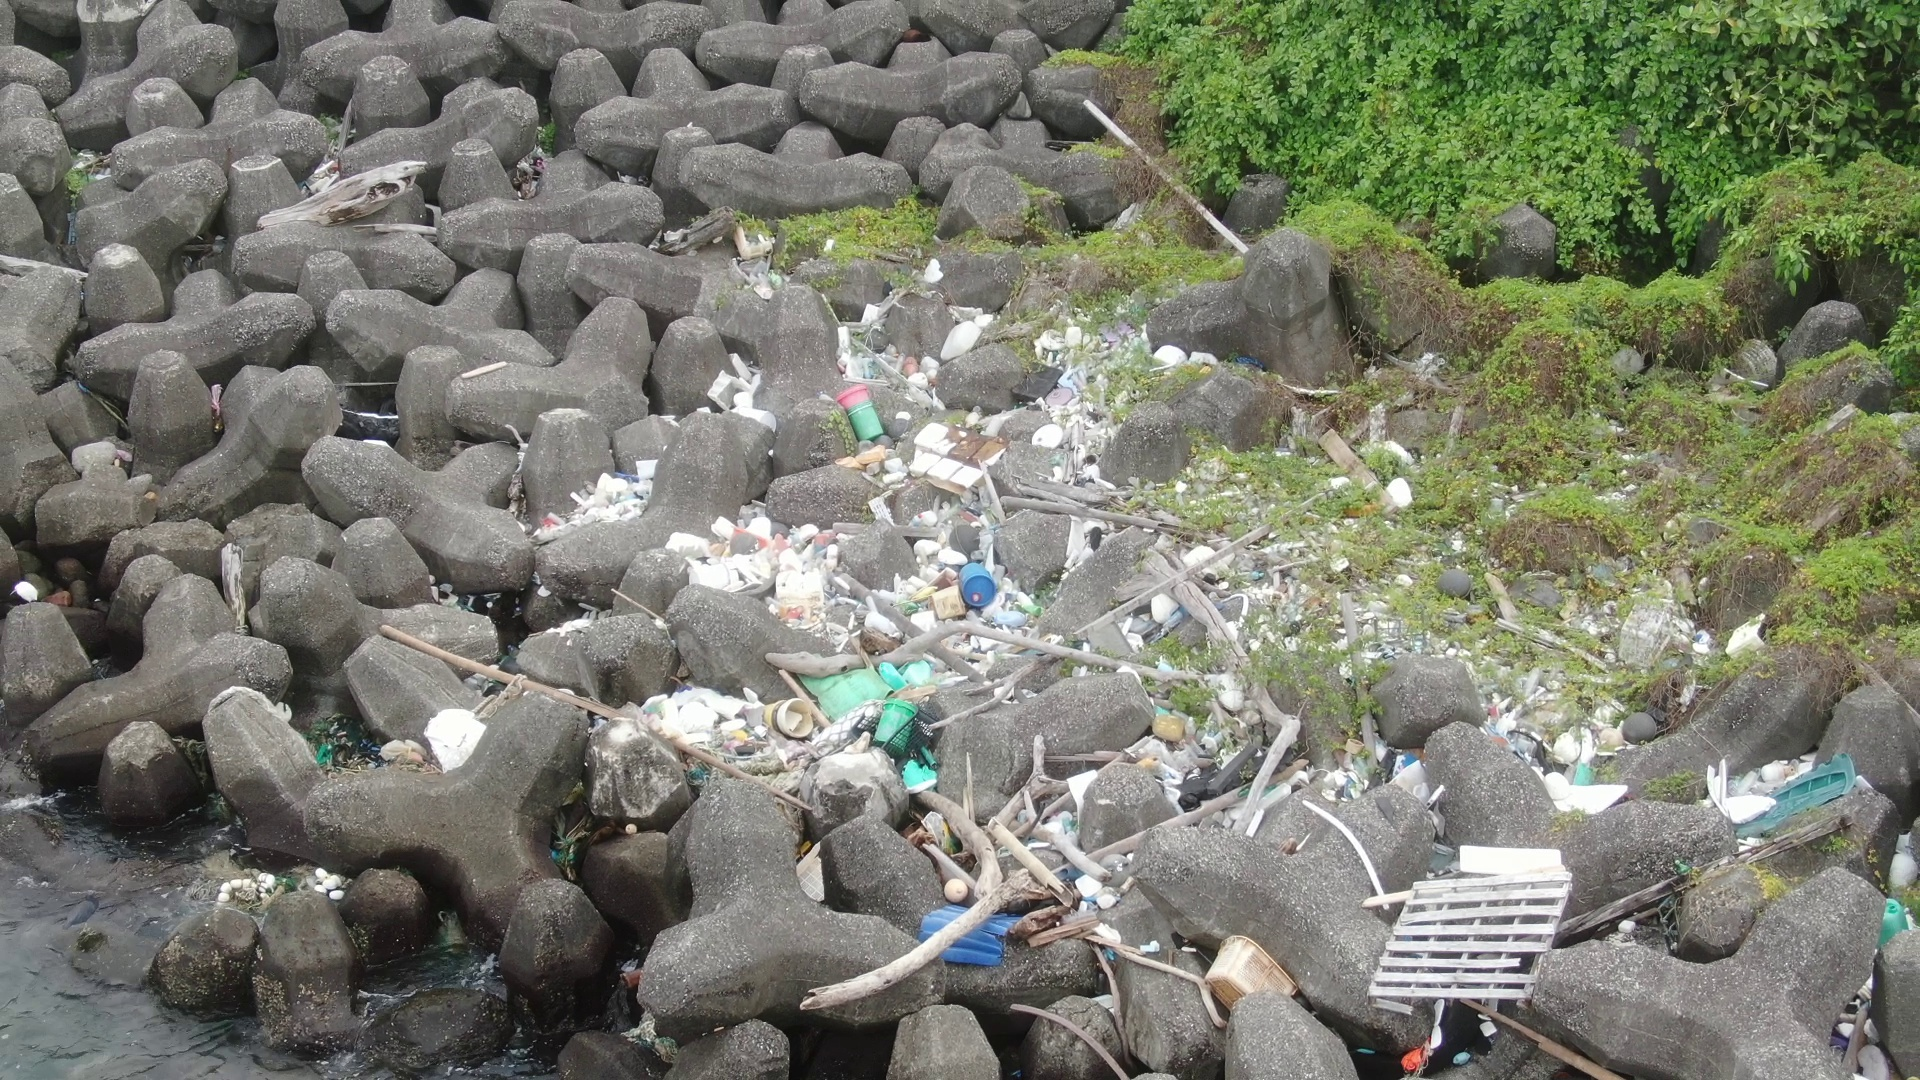garbage: (500, 247, 1312, 818), (1341, 827, 1589, 1076), (1706, 742, 1920, 986), (864, 822, 1187, 971), (1452, 636, 1644, 833), (1184, 922, 1316, 1019), (1655, 604, 1784, 694), (204, 843, 355, 915), (597, 952, 684, 1069), (314, 704, 382, 783), (1828, 985, 1886, 1076), (543, 814, 596, 886), (504, 142, 553, 202), (1377, 467, 1427, 520)
